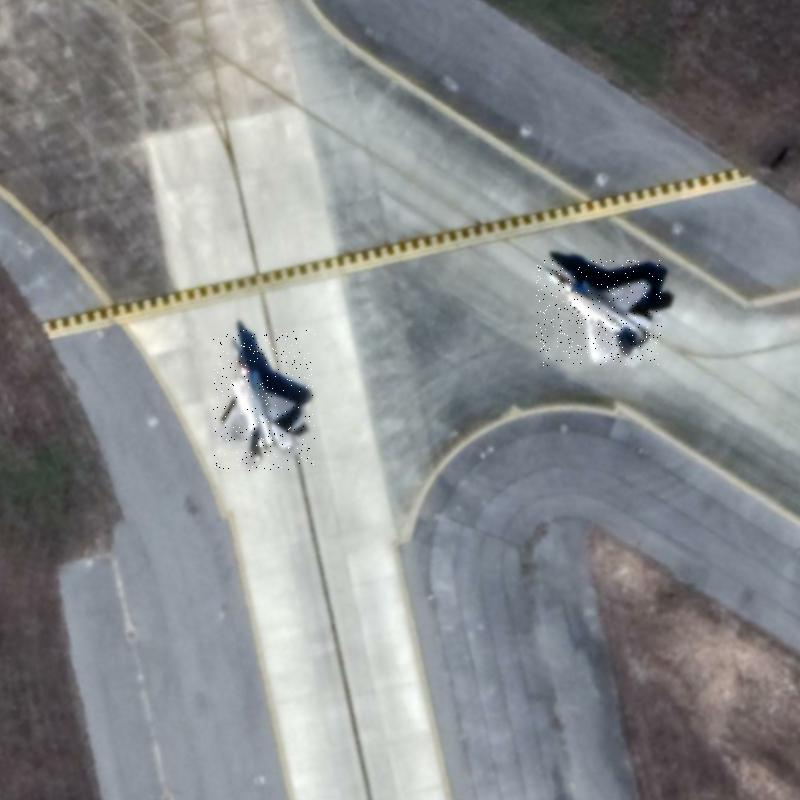A15: (213, 330, 315, 471), (536, 259, 662, 366)
